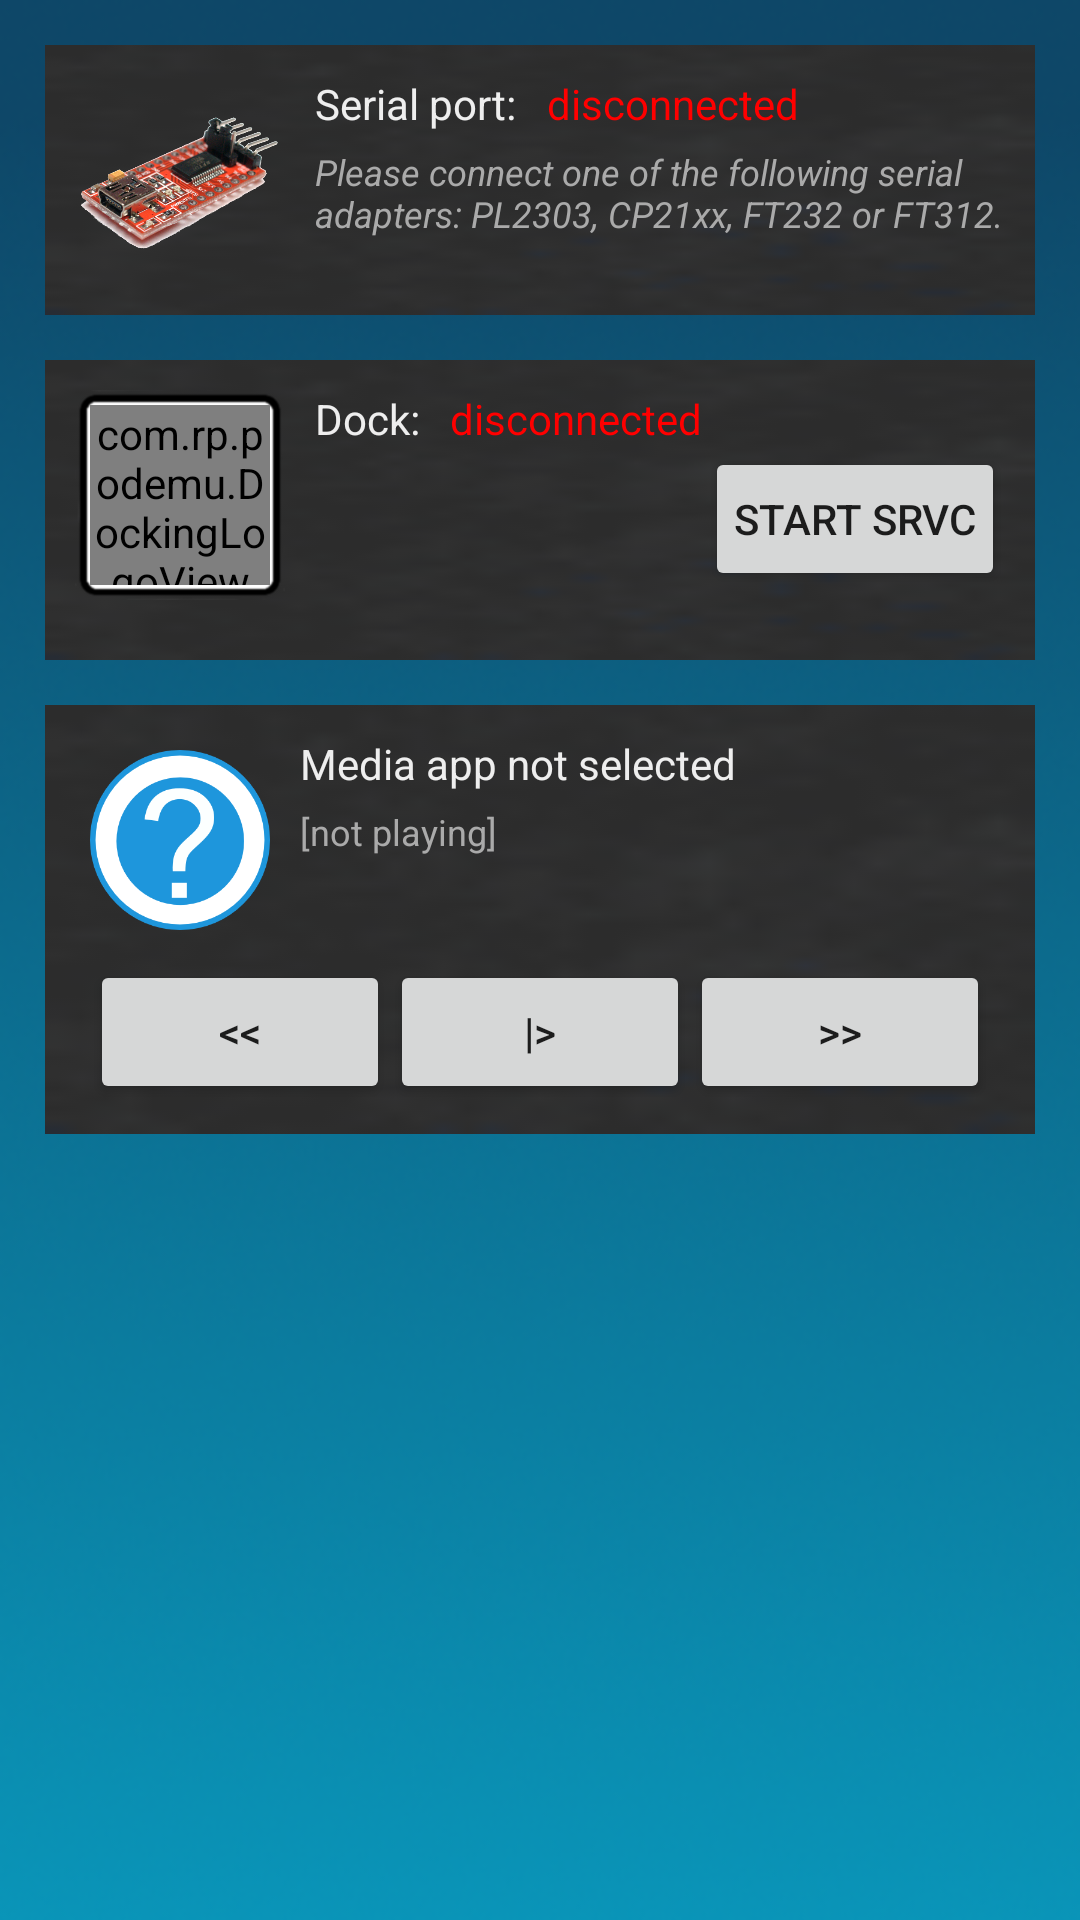

Where to tap for icons on this 1080px×1920px app screen, as (x,y):
questionmark: (180,840)
usb serial: (179,183)
